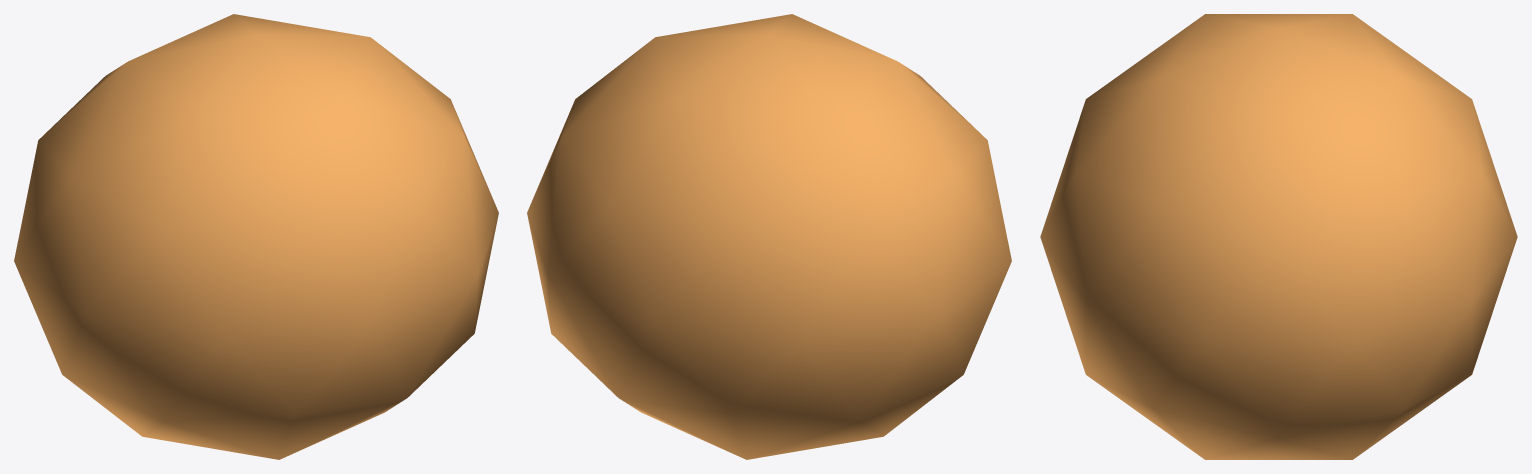
The model's file is tangerine_2.glb.
3 views of the same model, side by side, from view 1: azimuth 30°, elevation 25°; view 2: azimuth 150°, elevation 25°; view 3: azimuth 270°, elevation 25° (orthographic). The views are drawn at different scales.
Visible parts, largest first — view 1: tangerine_2; view 2: tangerine_2; view 3: tangerine_2.
Part boxes in pixels (box(x1,y1,x2,y2)): tangerine_2: box(14, 14, 498, 459); tangerine_2: box(527, 14, 1011, 459); tangerine_2: box(1040, 14, 1517, 459).
Size of the model in its own units: 1.03 by 0.96 by 1.
